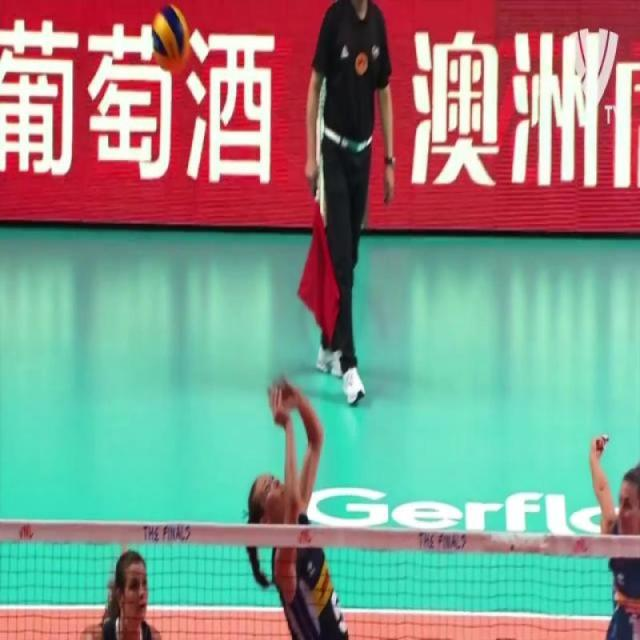volleyball: (153, 3, 190, 72)
